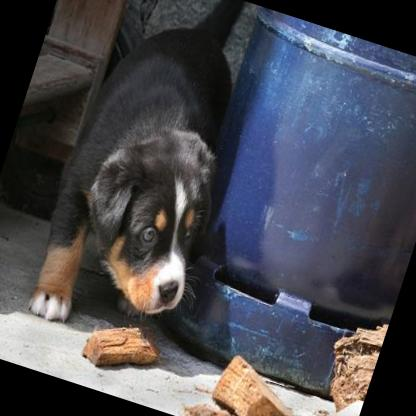Appenzeller: (13, 0, 277, 365)
